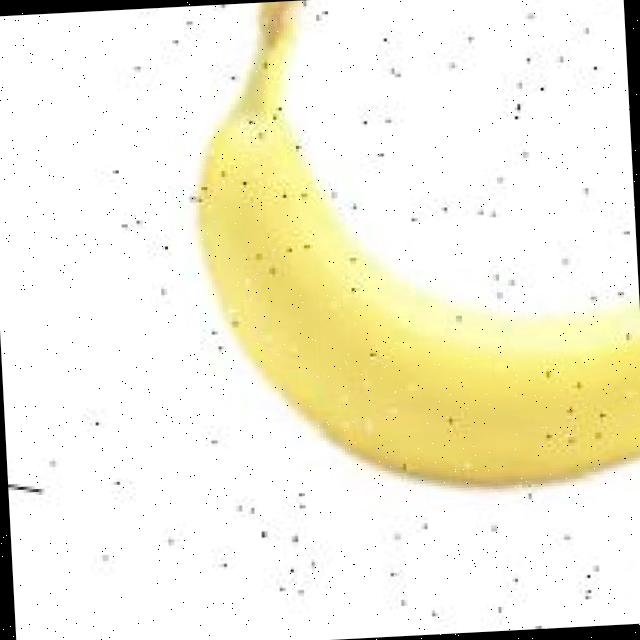banana: (138, 0, 640, 524)
